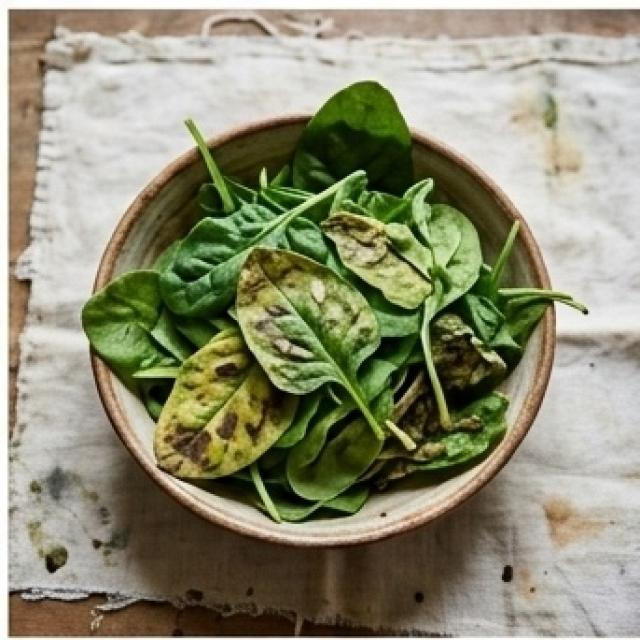rotten spinach: (35, 37, 638, 616)
